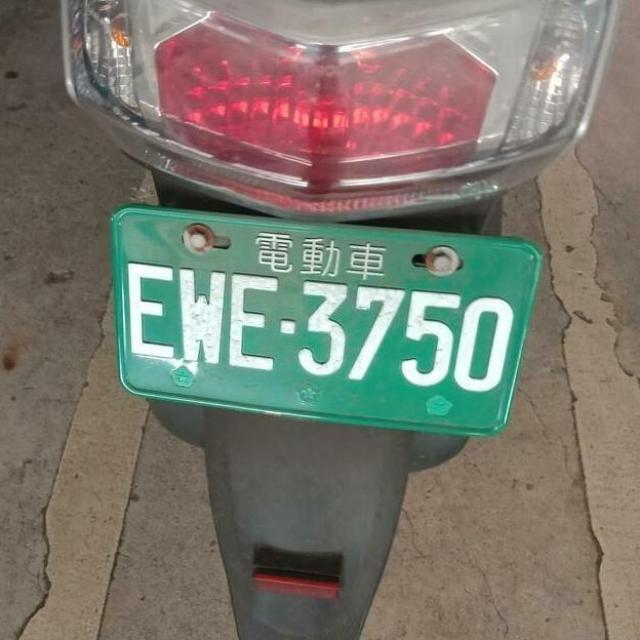GW: (92, 178, 544, 458)
